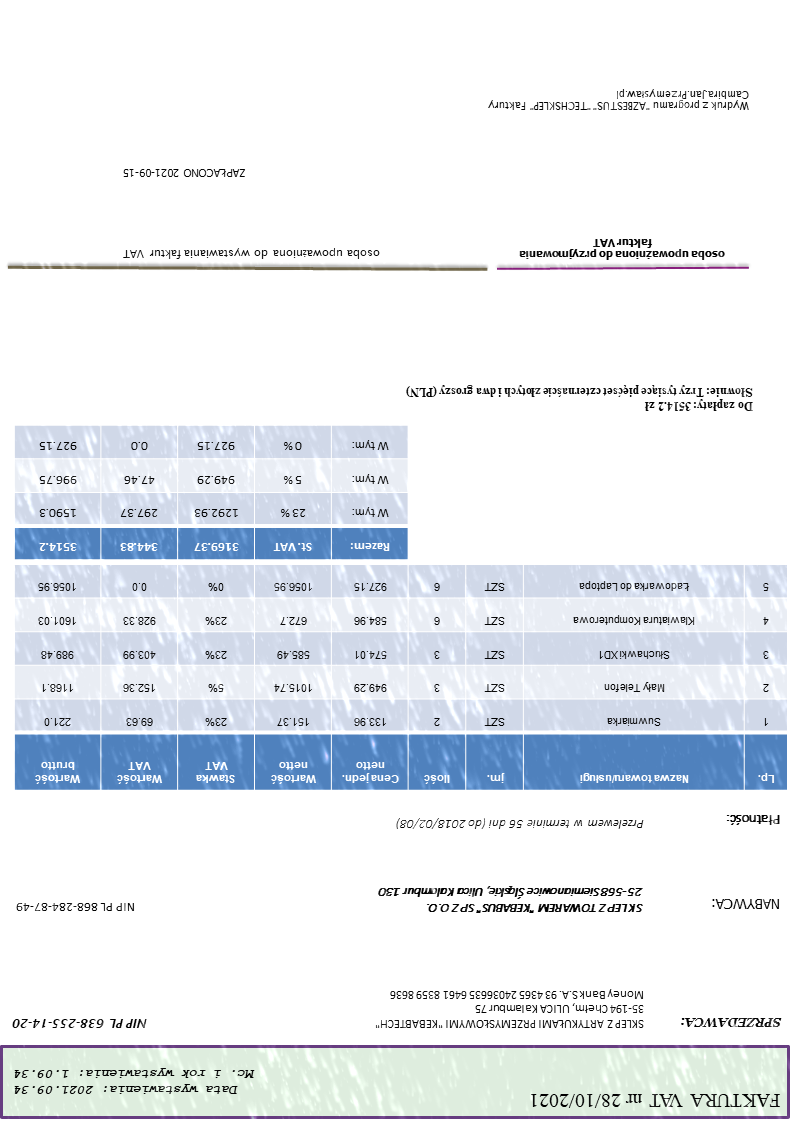Table: (13, 563, 789, 792), (13, 424, 410, 561)
TextBox: (373, 987, 648, 1032), (405, 383, 756, 414), (377, 884, 646, 915), (12, 1065, 258, 1098), (486, 87, 752, 114), (516, 236, 728, 264), (528, 1090, 783, 1111), (395, 815, 646, 833), (122, 246, 383, 263), (11, 1015, 150, 1032), (123, 166, 249, 181), (15, 900, 137, 914), (679, 1015, 784, 1030), (711, 896, 783, 912), (724, 812, 783, 828)
